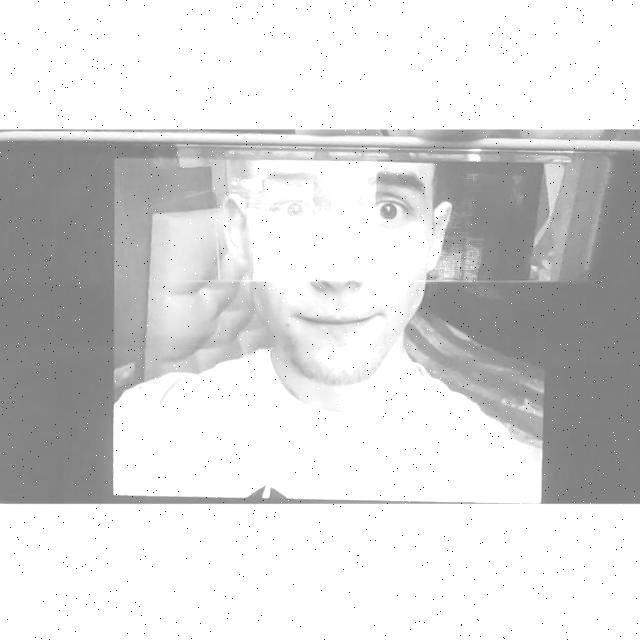fake: (0, 135, 640, 503)
